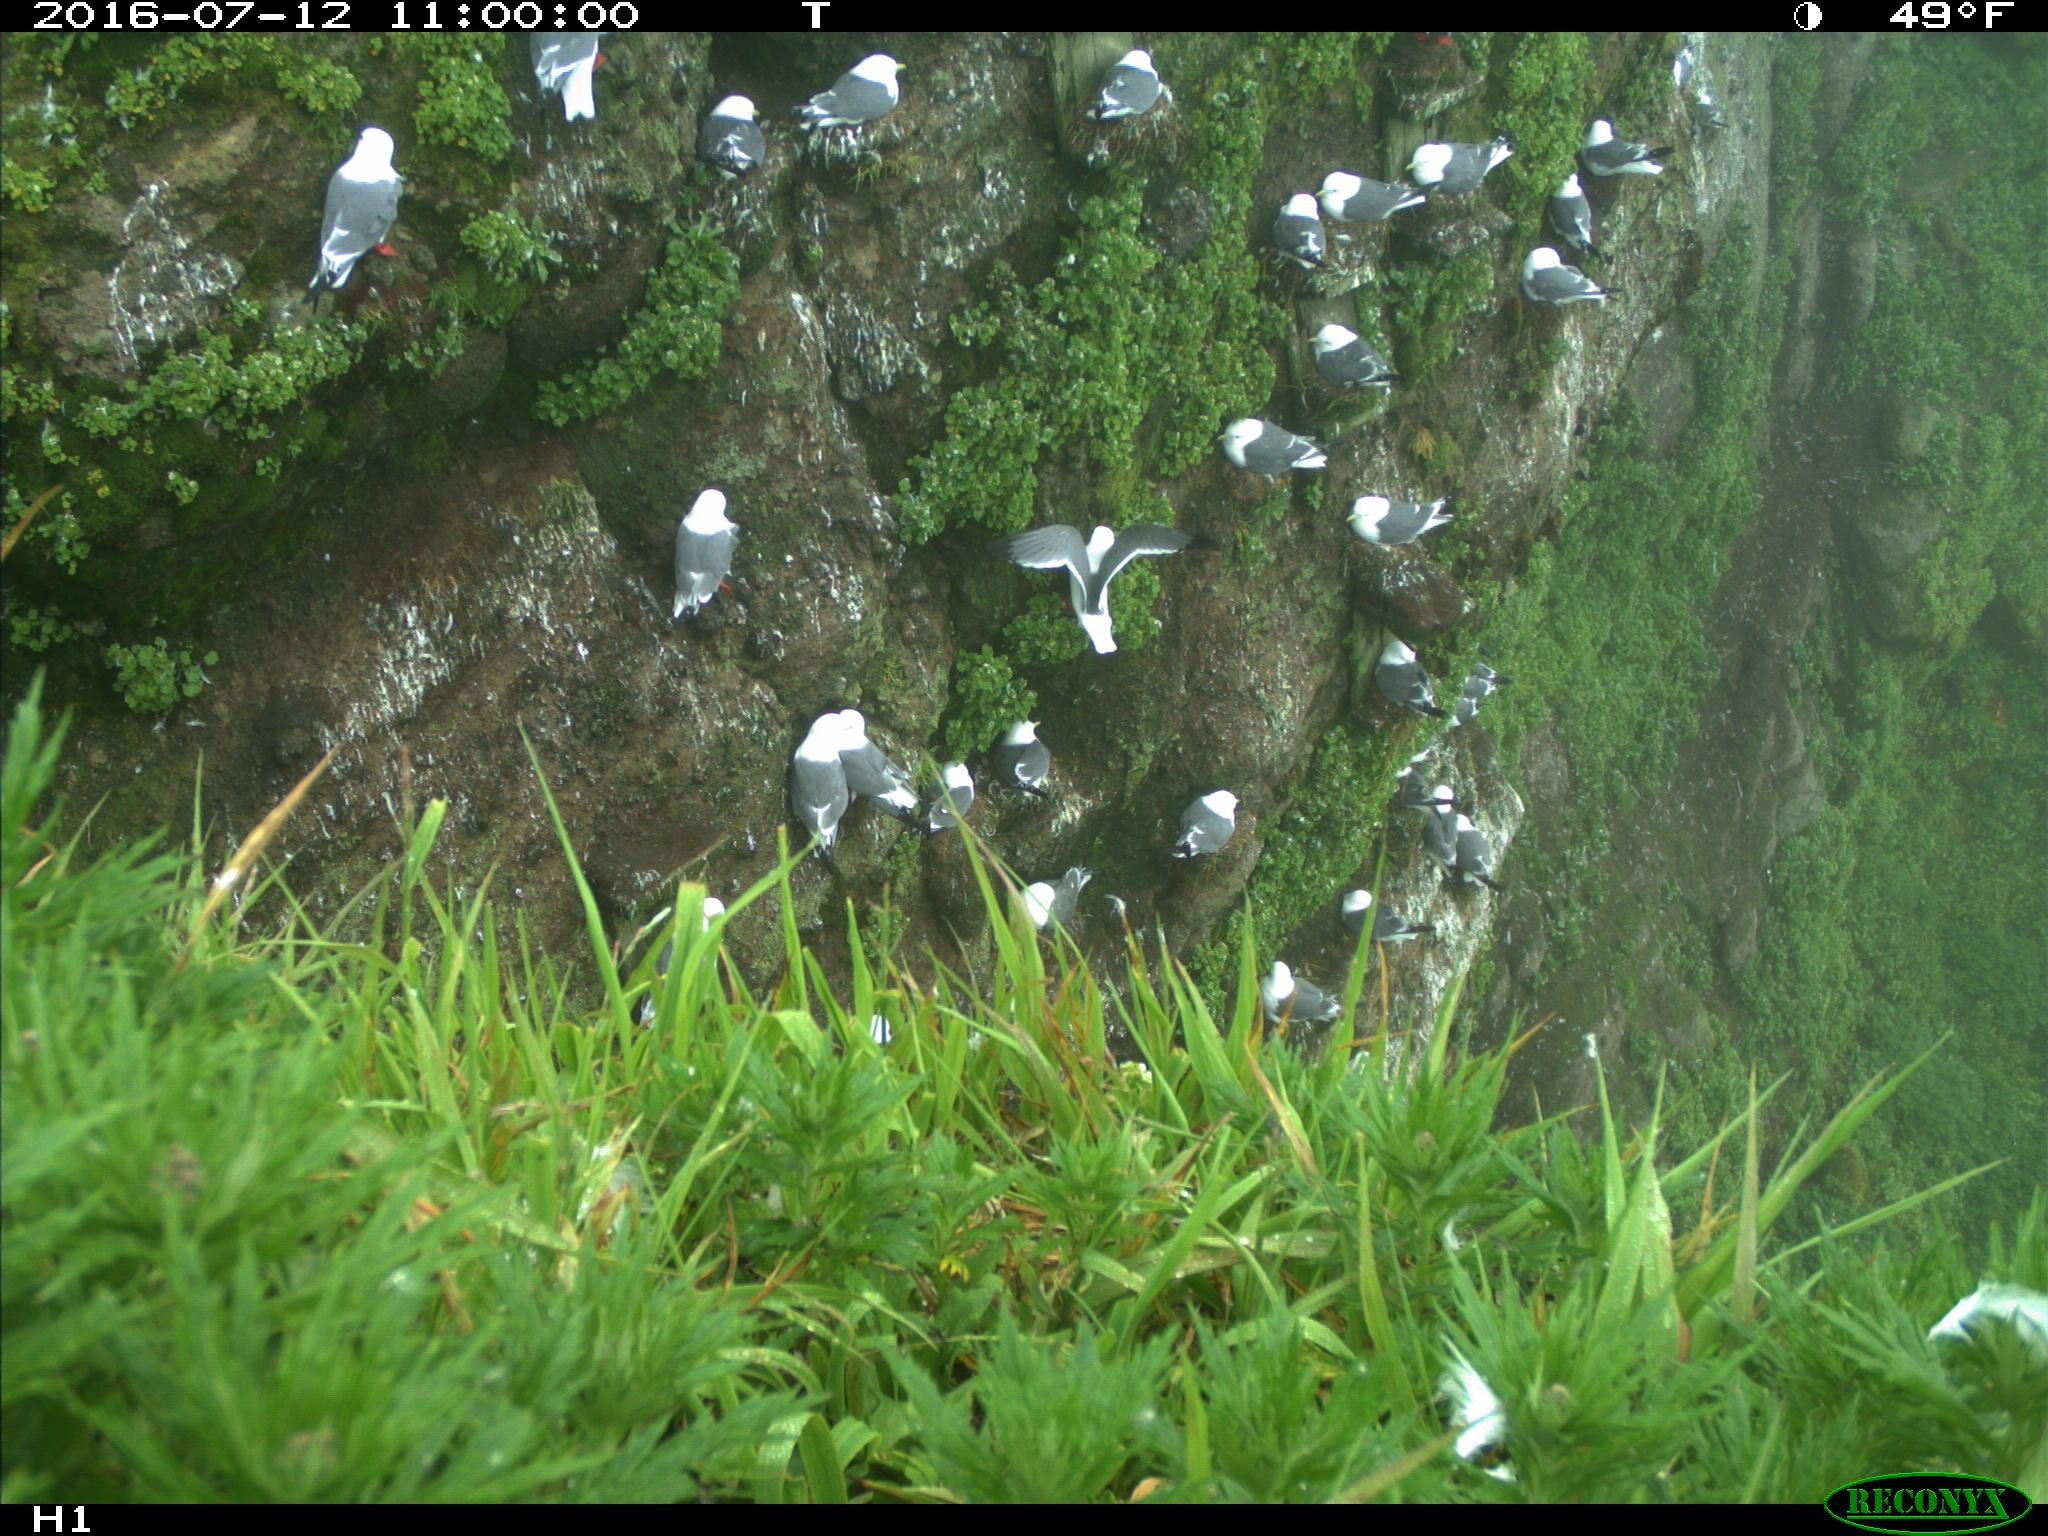Kittiwake: (984, 486, 1218, 678), (289, 100, 431, 311), (647, 457, 763, 657), (1188, 390, 1367, 495), (1330, 479, 1513, 573), (769, 679, 858, 870), (993, 842, 1142, 955), (784, 44, 927, 150), (669, 61, 790, 186), (1243, 933, 1364, 1050), (1076, 35, 1218, 136), (1508, 231, 1637, 337), (832, 694, 924, 837), (500, 32, 650, 119), (1379, 115, 1529, 202), (1571, 98, 1684, 208), (911, 729, 997, 870), (1347, 616, 1450, 726), (1300, 160, 1434, 244), (982, 705, 1074, 826), (1317, 876, 1447, 962), (1300, 308, 1413, 400), (1164, 779, 1271, 868), (1534, 148, 1617, 260), (1421, 755, 1484, 892), (1258, 160, 1330, 274), (1455, 803, 1526, 912), (1450, 644, 1513, 742)
